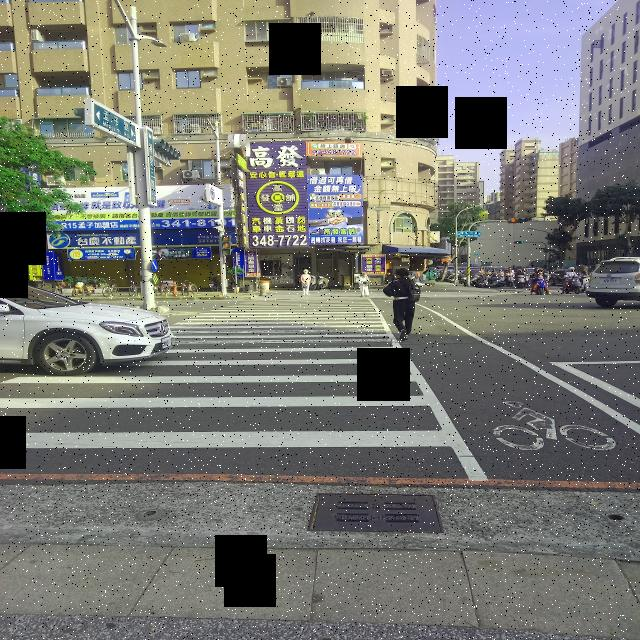zebra_crossing: (5, 294, 465, 459), (383, 268, 415, 340)
